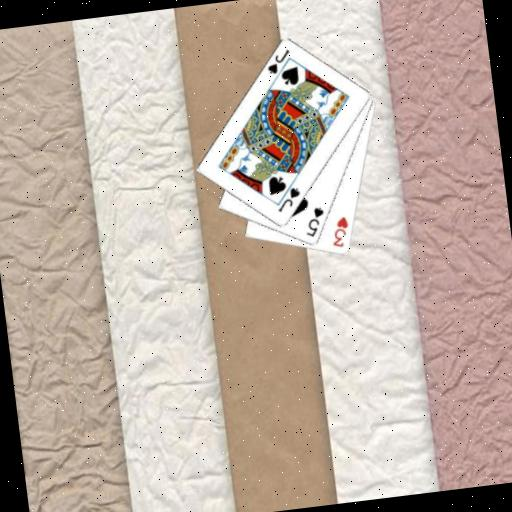3H: (326, 214, 352, 250)
5S: (300, 204, 328, 239)
JS: (262, 47, 294, 78), (272, 184, 304, 214)
